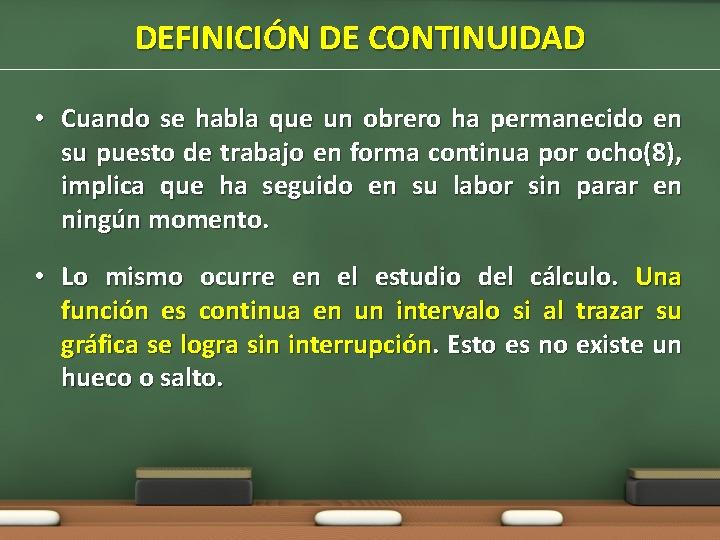paragraph: (23, 89, 708, 406)
title: (122, 8, 600, 56)
